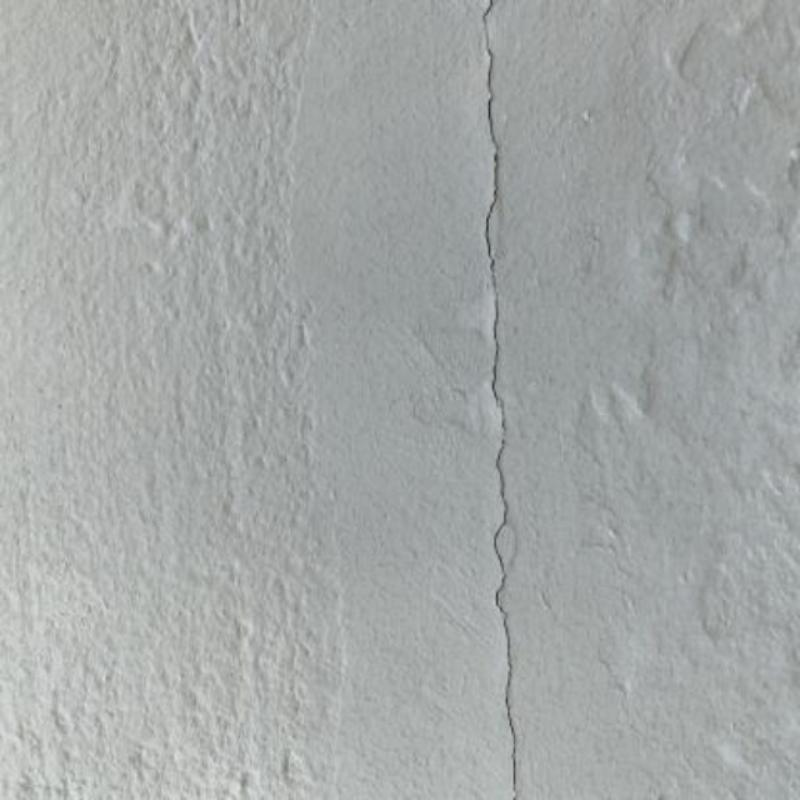crack: (482, 0, 517, 795)
